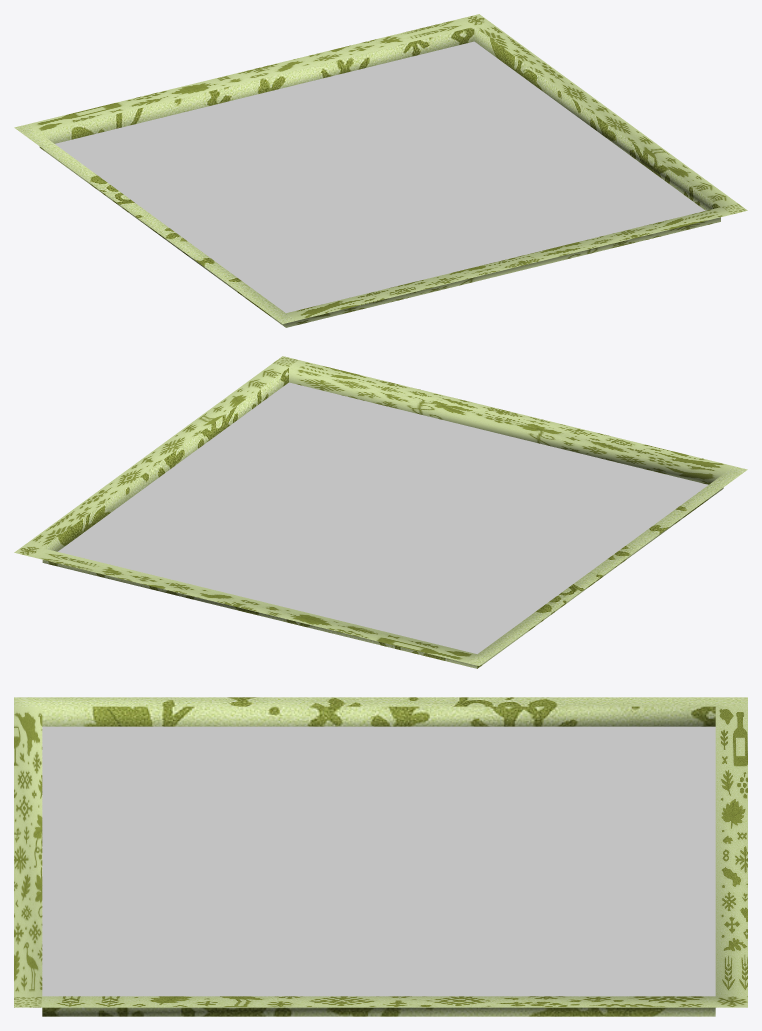
Rendered from Screen Plane.fbx.
3 renders of one model, top to bottom at view 1: azimuth 30°, elevation 25°; view 2: azimuth 150°, elevation 25°; view 3: azimuth 270°, elevation 25°, orthographic. The views are drawn at different scales.
Parts seen in each view (by area): view 1: Plane.001, Plane; view 2: Plane.001, Plane; view 3: Plane.001, Plane.
Boxes of the visible parts, x1=… form: Plane.001: x1=55, y1=41, x2=705, y2=312; Plane: x1=14, y1=14, x2=747, y2=327; Plane.001: x1=58, y1=382, x2=708, y2=654; Plane: x1=14, y1=356, x2=747, y2=668; Plane.001: x1=42, y1=726, x2=715, y2=996; Plane: x1=14, y1=697, x2=747, y2=1016.
Bounding box in the file's own units: 200 × 6.04 × 200.
